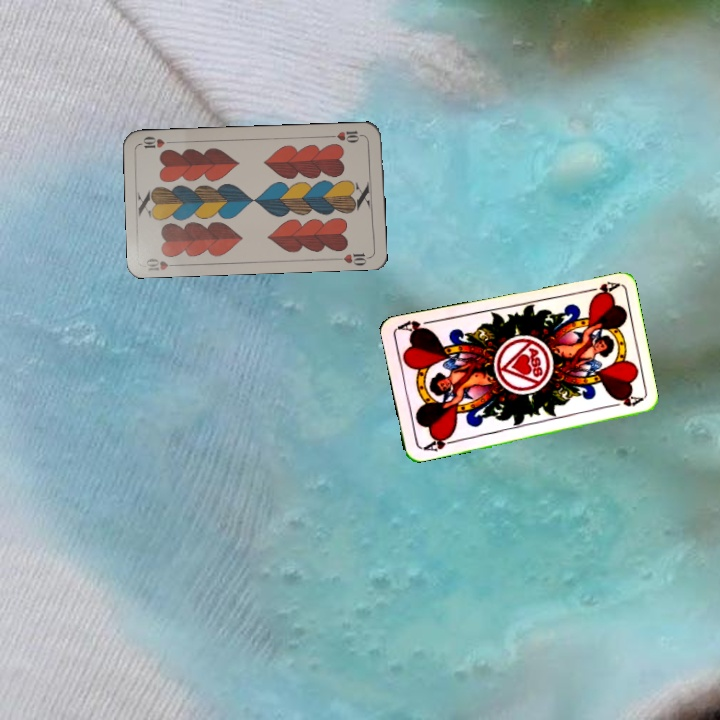H10: (142, 254, 182, 273), (326, 127, 366, 145)
HA: (579, 277, 620, 300), (418, 431, 458, 454)
